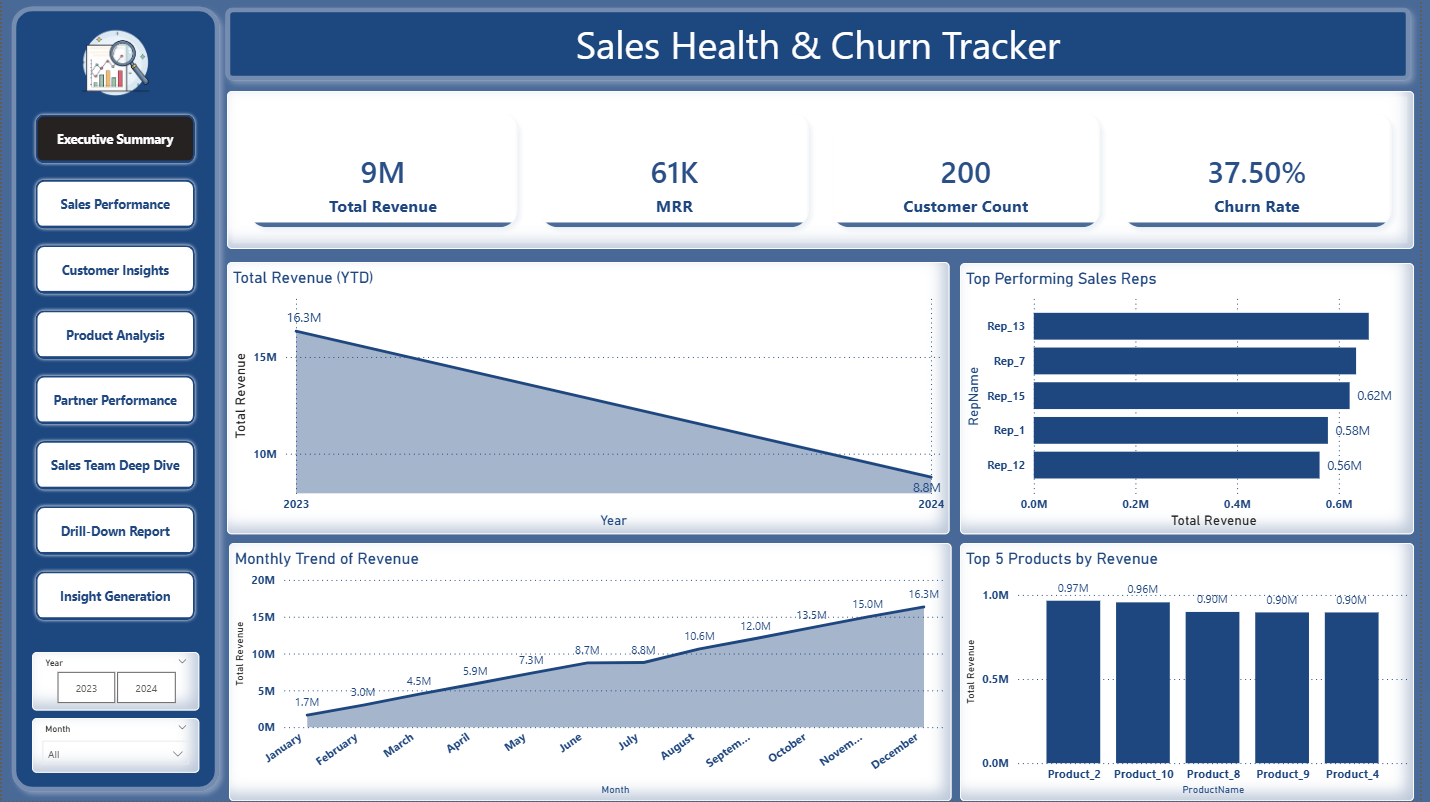

Layout of this report page (visuals, bound fields, positions):
{"tool":"powerbi","page":{"name":"Executive Summary","canvas":[1500,850],"ordinal":0},"visuals":[{"type":"shape","box":[225.2,0,1275,99.4],"z":0},{"type":"shape","box":[0,0,240,850],"z":1000},{"type":"cardVisual","fields":{"Data":["My Measures.Total Revenue","My Measures.MRR","My Measures.Customer Count","My Measures.Churn Rate"]},"box":[237.9,99.4,1254.9,167],"z":2000},{"type":"lineChart","title":" Total Revenue (YTD) ","fields":{"Category":["Date.Date.Variation.Date Hierarchy.Year","Date.Date.Variation.Date Hierarchy.Month"],"Y":["My Measures.Total Revenue"]},"box":[237.9,280.2,764.4,287.6],"z":3000},{"type":"columnChart","title":" Top 5 Products by Revenue","fields":{"Category":["Products.ProductName"],"Y":["My Measures.Total Revenue"]},"box":[1012.8,577.2,480,272.8],"z":4000},{"type":"barChart","title":" Top Performing Sales Reps","fields":{"Category":["Sales_Team.RepName"],"Y":["My Measures.Total Revenue"]},"box":[1012.8,281.2,480,286.5],"z":5000},{"type":"pageNavigator","box":[31.7,120.5,176.6,543.4],"z":6000},{"type":"slicer","fields":{"Values":["Date.Year"]},"box":[31.7,692.5,176.6,62.4],"z":7000},{"type":"slicer","fields":{"Values":["Date.Month"]},"box":[31.7,762.3,176.6,58.1],"z":8000},{"type":"lineChart","title":"Monthly Trend of Revenue","fields":{"Category":["Date.Date.Variation.Date Hierarchy.Month"],"Y":["My Measures.Total Revenue"]},"box":[240,577.2,764.4,272.8],"z":9000},{"type":"image","box":[58.1,30.7,124.8,78.2],"z":10000}]}

Visuals, with their boxes in screenshot pixels (x1, y1, x2, y2), scaled from the page's 1500x850 canvas onto the 1430x802 screenshot:
shape: <region>215, 0, 1429, 94</region>
shape: <region>0, 0, 229, 801</region>
cardVisual - My Measures.Total Revenue x My Measures.MRR: <region>227, 94, 1423, 251</region>
" Total Revenue (YTD) " lineChart: <region>227, 264, 956, 536</region>
" Top 5 Products by Revenue" columnChart: <region>966, 545, 1423, 801</region>
" Top Performing Sales Reps" barChart: <region>966, 265, 1423, 536</region>
pageNavigator: <region>30, 114, 199, 626</region>
slicer - Date.Year: <region>30, 653, 199, 712</region>
slicer - Date.Month: <region>30, 719, 199, 774</region>
"Monthly Trend of Revenue" lineChart: <region>229, 545, 958, 801</region>
image: <region>55, 29, 174, 103</region>
